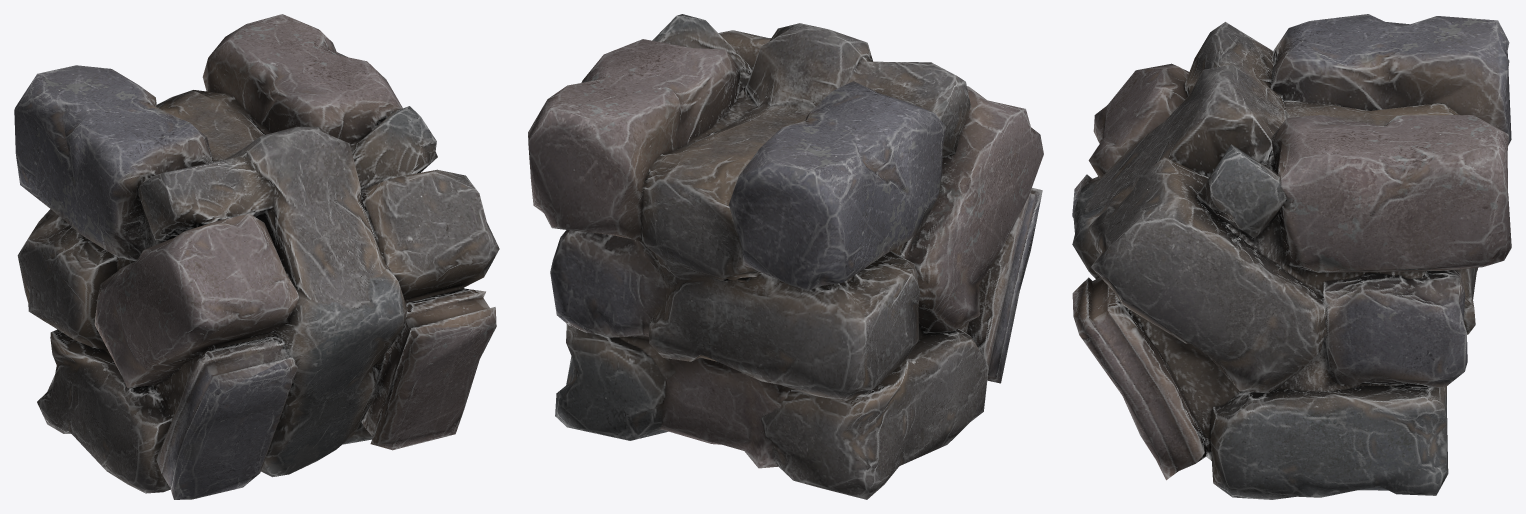
The model's file is SM_Ruin_05.fbx.
The picture shows the model from 3 angles, left to right: view 1: azimuth 30°, elevation 25°; view 2: azimuth 150°, elevation 25°; view 3: azimuth 270°, elevation 25°; orthographic projection. The views are drawn at different scales.
Visible parts, largest first — view 1: SM_Ruin_05_LOD0; view 2: SM_Ruin_05_LOD0; view 3: SM_Ruin_05_LOD0.
Boxes of the visible parts, bbox=[...] form: SM_Ruin_05_LOD0: bbox=[14, 14, 499, 499]; SM_Ruin_05_LOD0: bbox=[528, 14, 1043, 499]; SM_Ruin_05_LOD0: bbox=[1072, 14, 1511, 499].
Bounding box in the file's own units: 251 × 288 × 256.
